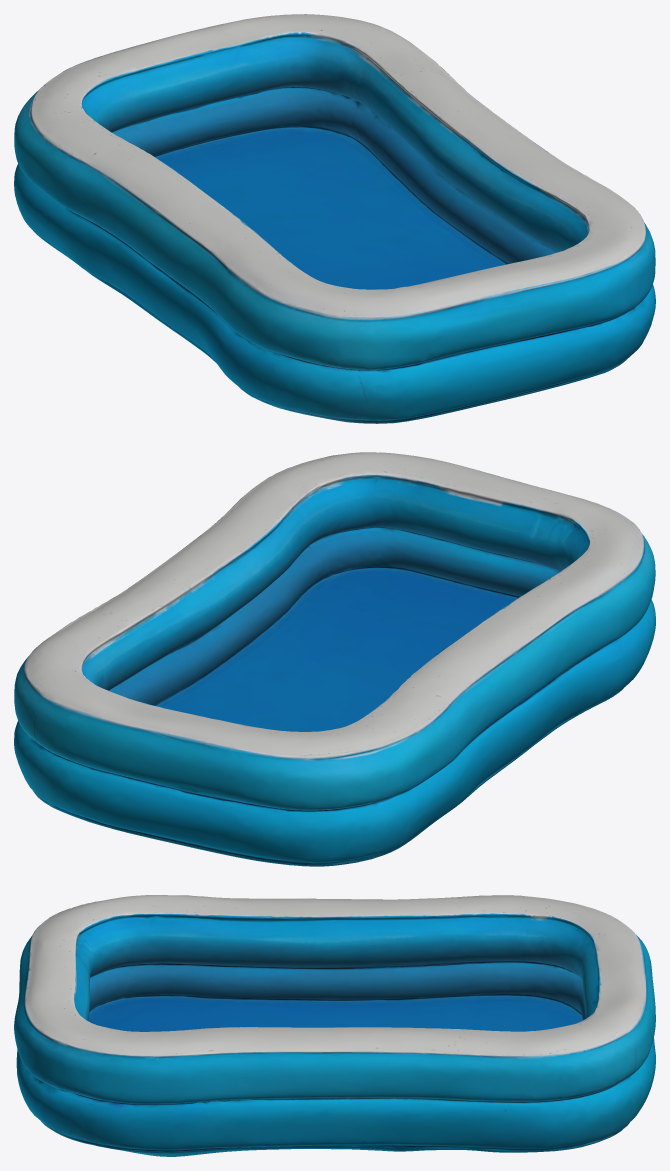
Rendered from BAZIN GONFLABIL COPII «FAMILIAL» INTEX, 203X152X48 CM; BAZIN GONFLABIL COPII 229Х147Х46СМ ОТ 6 ЛЕТ.glb.
3 views of the same model, one above another, from view 1: azimuth 30°, elevation 25°; view 2: azimuth 150°, elevation 25°; view 3: azimuth 270°, elevation 25° (orthographic). The views are drawn at different scales.
Visible parts, largest first — view 1: tripo_node_91590c36-7f3a-4d33-8a97-b01f4eb42a19; view 2: tripo_node_91590c36-7f3a-4d33-8a97-b01f4eb42a19; view 3: tripo_node_91590c36-7f3a-4d33-8a97-b01f4eb42a19.
Boxes of the visible parts, left/top/right/bottom form: tripo_node_91590c36-7f3a-4d33-8a97-b01f4eb42a19: left=14, top=14, right=655, bottom=423; tripo_node_91590c36-7f3a-4d33-8a97-b01f4eb42a19: left=14, top=452, right=655, bottom=866; tripo_node_91590c36-7f3a-4d33-8a97-b01f4eb42a19: left=14, top=895, right=655, bottom=1156.
Bounding box in the file's own units: 0.6261 × 0.2426 × 1.
Materials: 1 (1 with a texture image).
